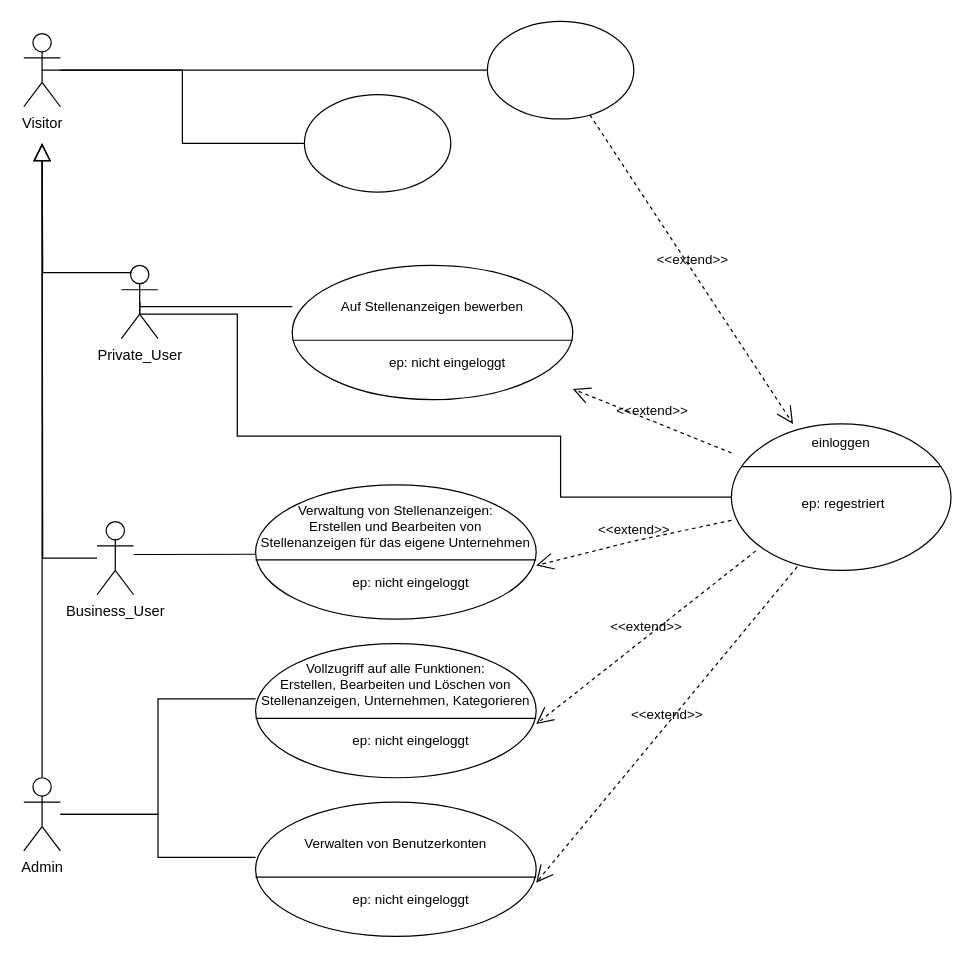
Image size: 972x958. Some labels were removed from this diagram. The centre of each missing label's shape, as x and y in pixels:
"Regestrieren" belongs at [560,69].
"Öffentliche Stellenanzeigen aufrufen" belongs at [377,142].
